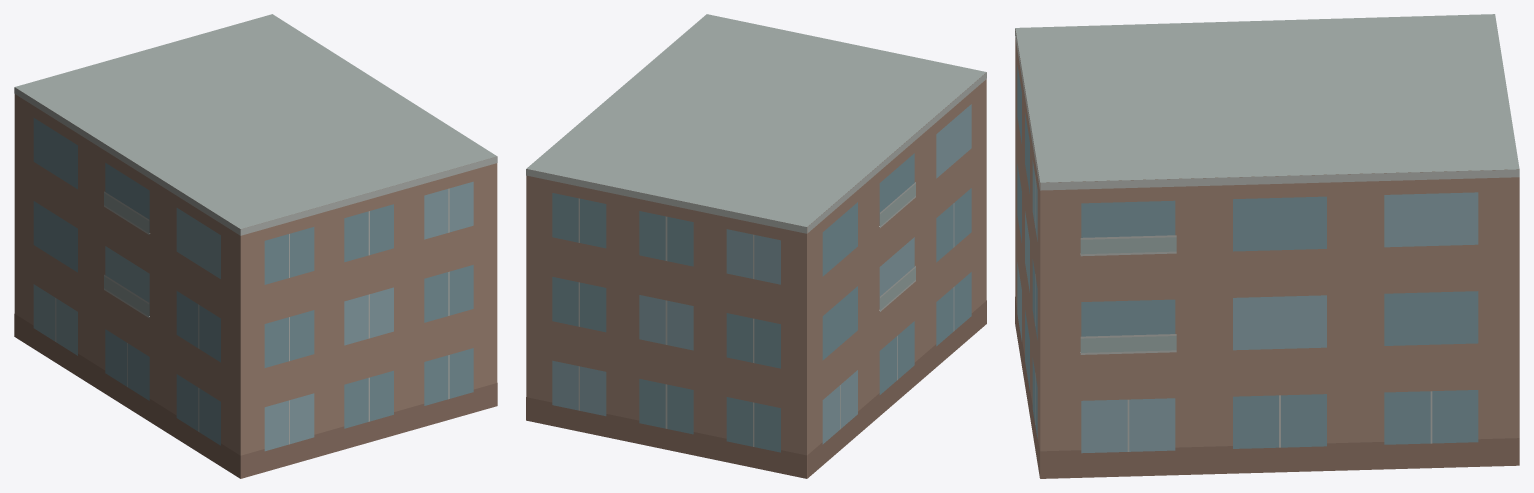
The model's file is survey-upis-32878096.glb.
3 renders of one model, left to right at view 1: azimuth 30°, elevation 25°; view 2: azimuth 150°, elevation 25°; view 3: azimuth 270°, elevation 25°, orthographic. The views are drawn at different scales.
Parts seen in each view (by area): view 1: survey-upis-32878096.tmp; view 2: survey-upis-32878096.tmp; view 3: survey-upis-32878096.tmp.
Part boxes in pixels (x1,y1,x2,y2): survey-upis-32878096.tmp: (14,14,497,478); survey-upis-32878096.tmp: (526,14,986,478); survey-upis-32878096.tmp: (1015,14,1519,478).
Size of the model in its own units: 11.18 by 9.15 by 14.13.
